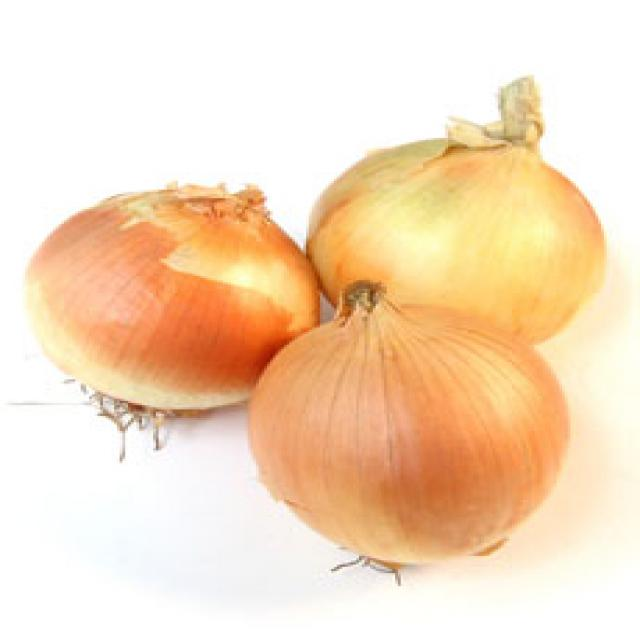onion: (256, 332, 573, 564), (30, 178, 272, 420), (314, 128, 610, 322)
